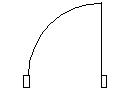door: (27, 1, 103, 73)
